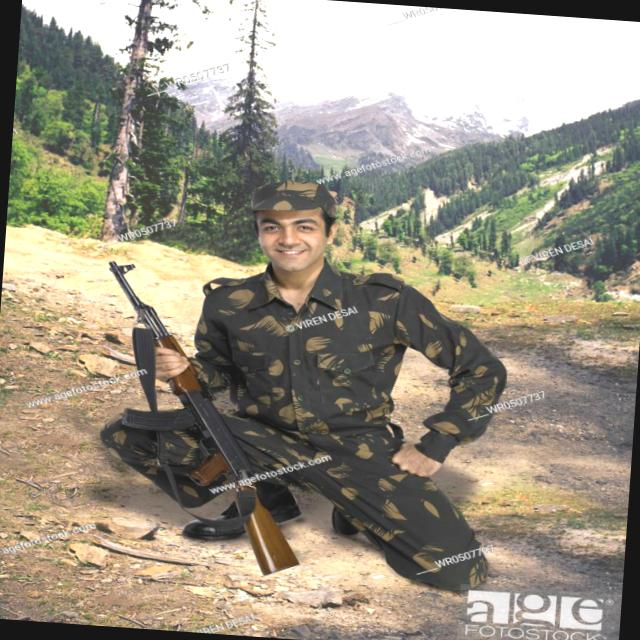long weapon: (69, 254, 324, 576)
